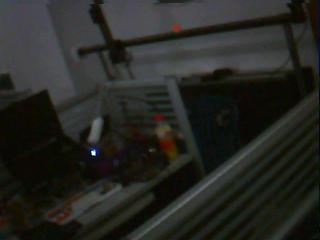oball: (173, 23, 180, 33)
